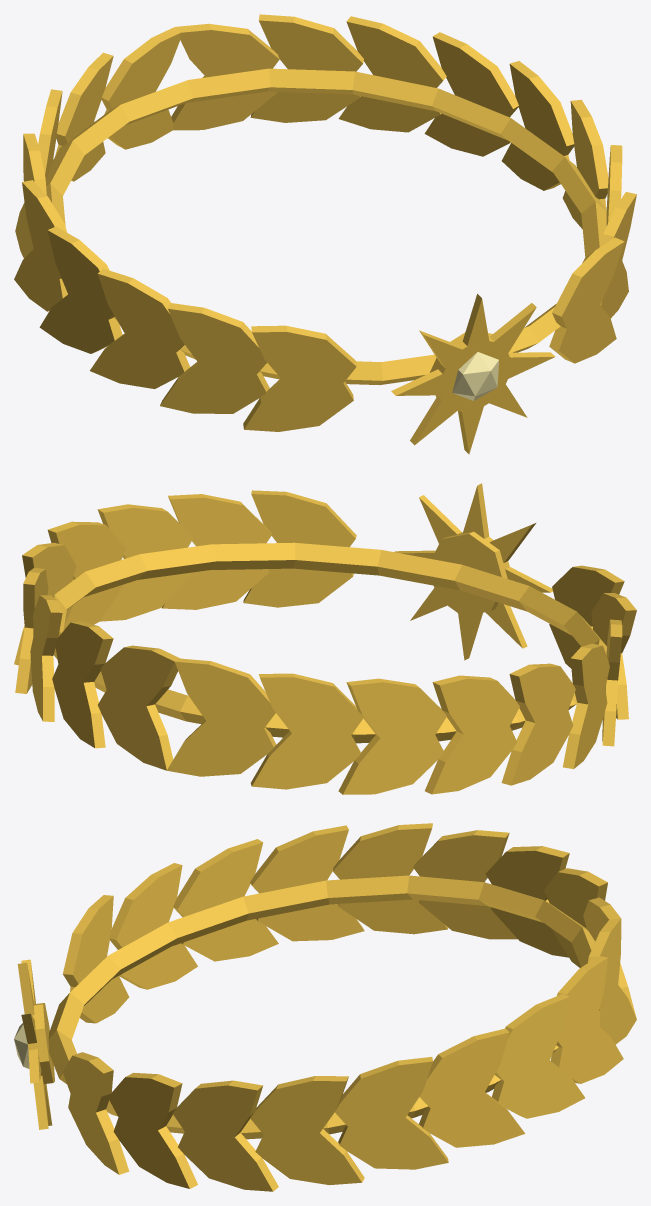
File: S4_Light_Laurel.fbx
The picture shows the model from 3 angles, top to bottom: view 1: azimuth 30°, elevation 25°; view 2: azimuth 150°, elevation 25°; view 3: azimuth 270°, elevation 25°; orthographic projection.
Visible parts, largest first — view 1: S4_Light_Laurel; view 2: S4_Light_Laurel; view 3: S4_Light_Laurel.
Part boxes in pixels (x1,y1,x2,y2): S4_Light_Laurel: (14, 14, 636, 454); S4_Light_Laurel: (14, 483, 636, 794); S4_Light_Laurel: (14, 823, 636, 1191).
Size of the model in its own units: 0.6348 by 0.241 by 0.6527.
